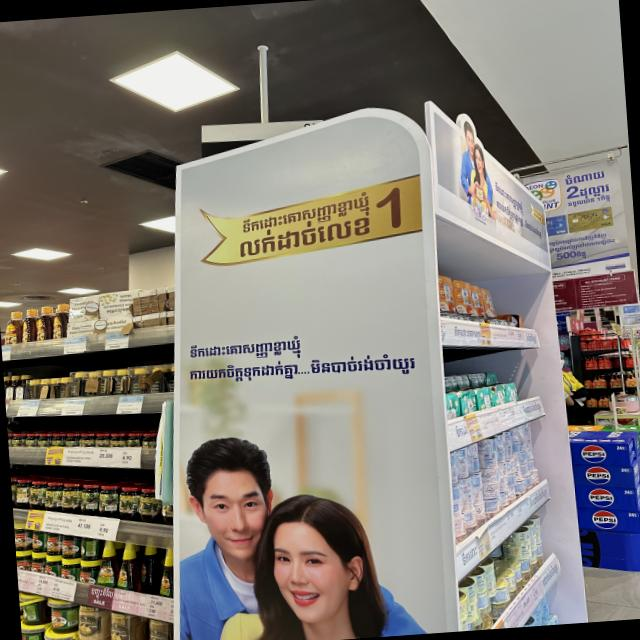1: (179, 350, 419, 387)
503: (373, 178, 415, 231)
Yolov11kh: (227, 188, 374, 237), (231, 212, 370, 262), (182, 330, 309, 364)
